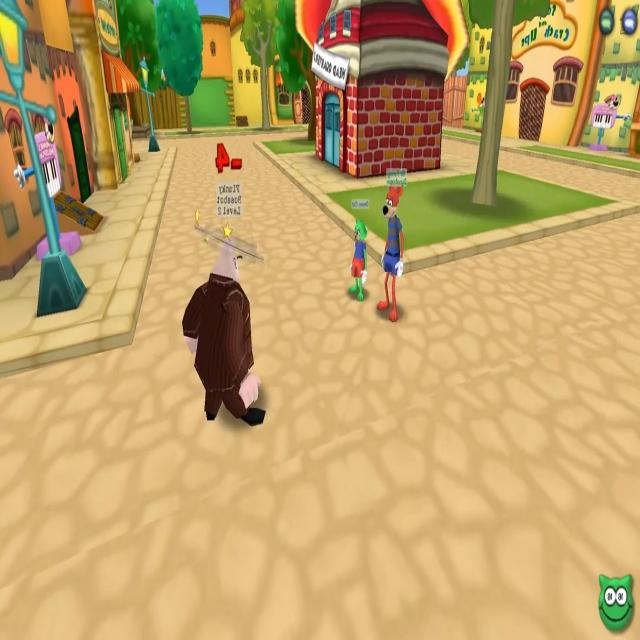flunky: (181, 182, 259, 430)
